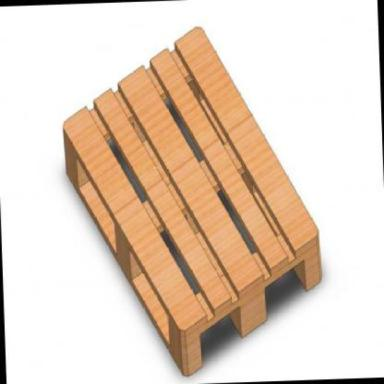pallet: (63, 26, 322, 376)
